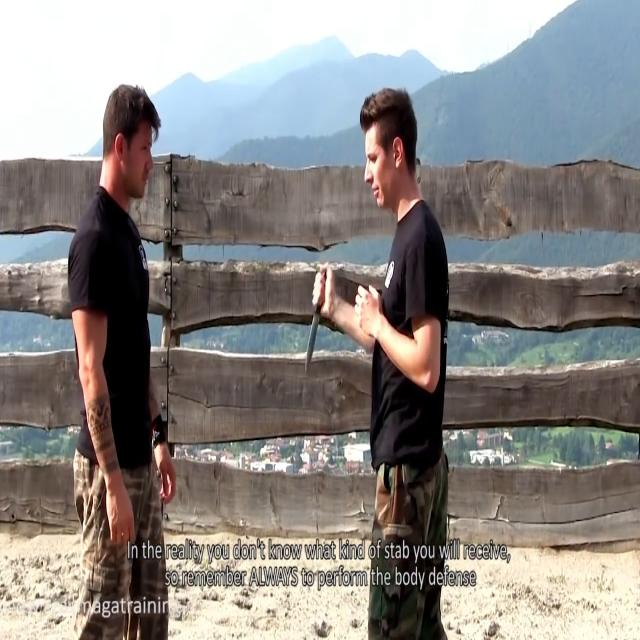knife: (304, 307, 330, 376)
